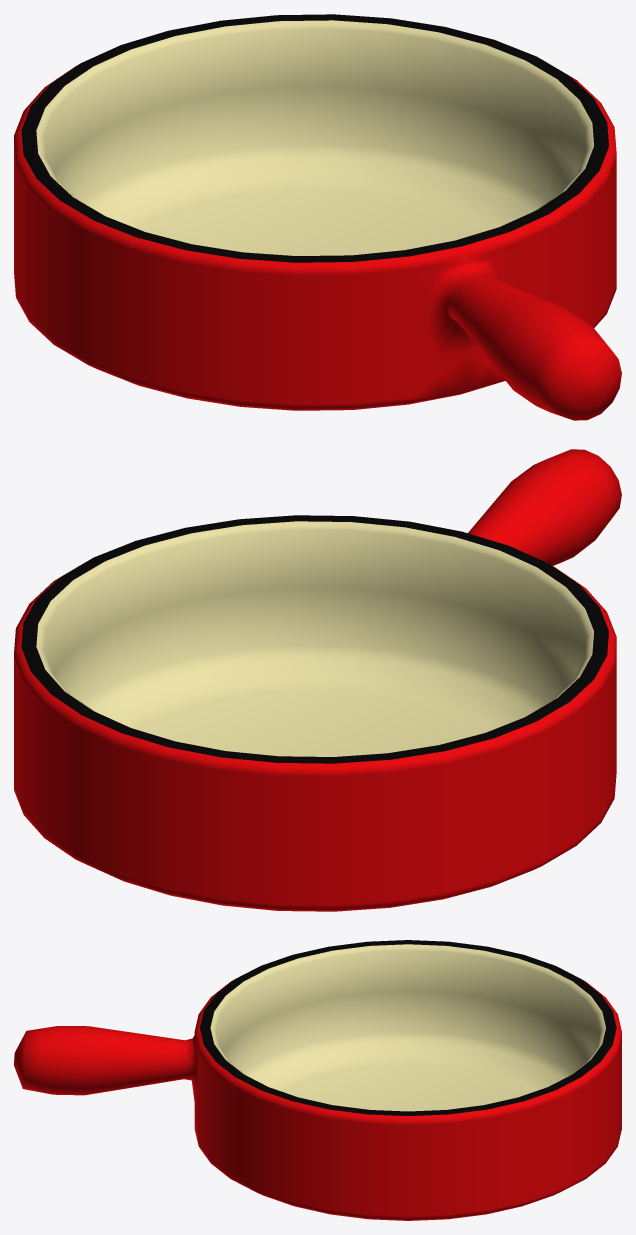
The model's file is SM_OriginalPot_triangulate.fbx.
3 renders of one model, top to bottom at view 1: azimuth 30°, elevation 25°; view 2: azimuth 150°, elevation 25°; view 3: azimuth 270°, elevation 25°, orthographic. The views are drawn at different scales.
Visible parts, largest first — view 1: SM_Pot; view 2: SM_Pot; view 3: SM_Pot.
Boxes of the visible parts, bbox=[...] form: SM_Pot: bbox=[14, 14, 621, 420]; SM_Pot: bbox=[14, 449, 621, 911]; SM_Pot: bbox=[14, 940, 621, 1220].
Size of the model in its own units: 200 by 57.77 by 284.
